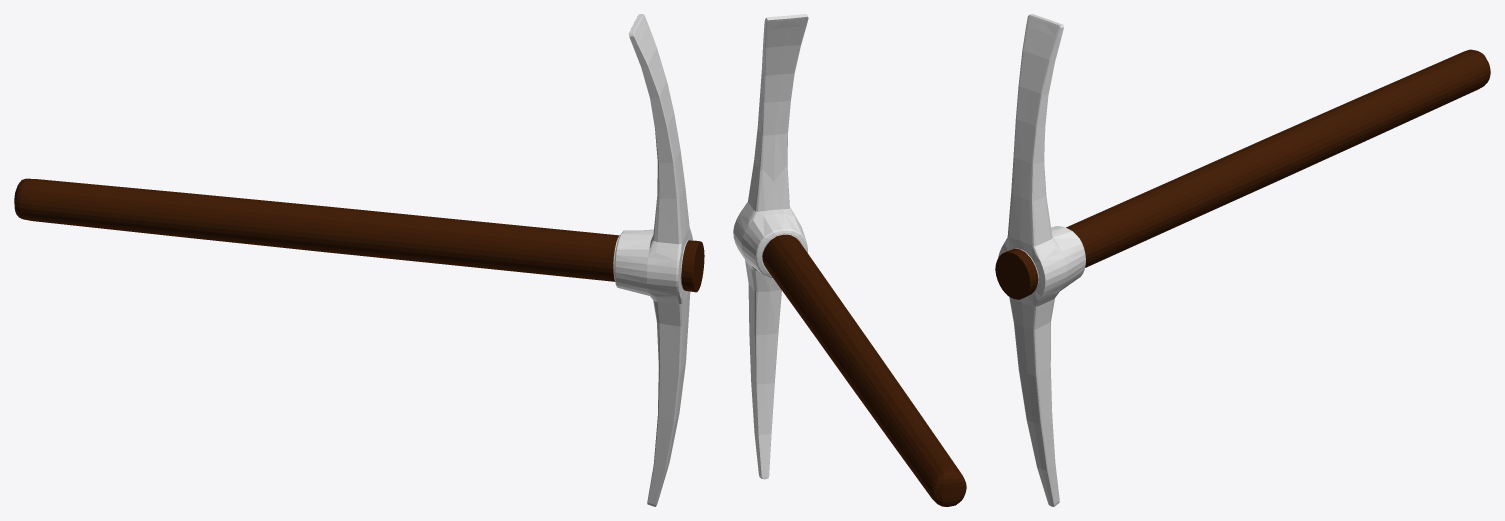
The model's file is pioche.fbx.
3 renders of one model, left to right at view 1: azimuth 30°, elevation 25°; view 2: azimuth 150°, elevation 25°; view 3: azimuth 270°, elevation 25°, orthographic. The views are drawn at different scales.
Visible parts, largest first — view 1: Pickaxe_Pickaxe_0; view 2: Pickaxe_Pickaxe_0; view 3: Pickaxe_Pickaxe_0.
Part boxes in pixels (x1,y1,x2,y2): Pickaxe_Pickaxe_0: (14, 14, 704, 506); Pickaxe_Pickaxe_0: (733, 14, 966, 506); Pickaxe_Pickaxe_0: (995, 14, 1490, 506).
Bounding box in the file's own units: 10.91 × 11.01 × 10.36.
